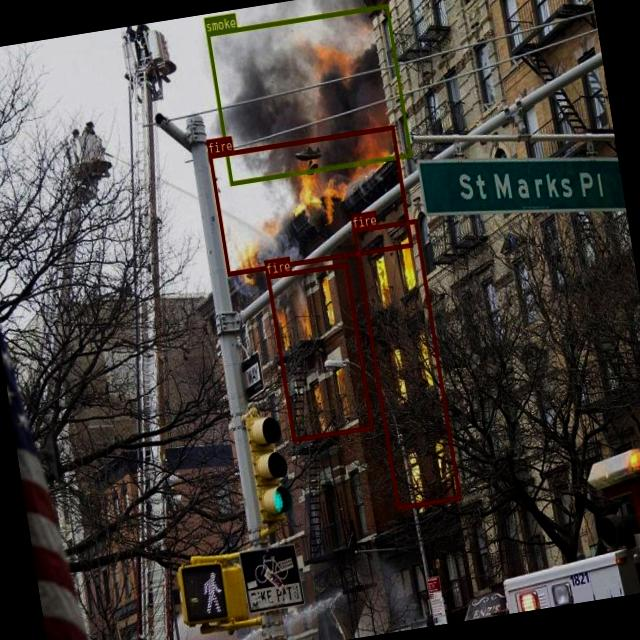fire: (352, 218, 461, 509), (208, 124, 412, 276), (266, 262, 373, 442)
smoke: (206, 3, 412, 185)
